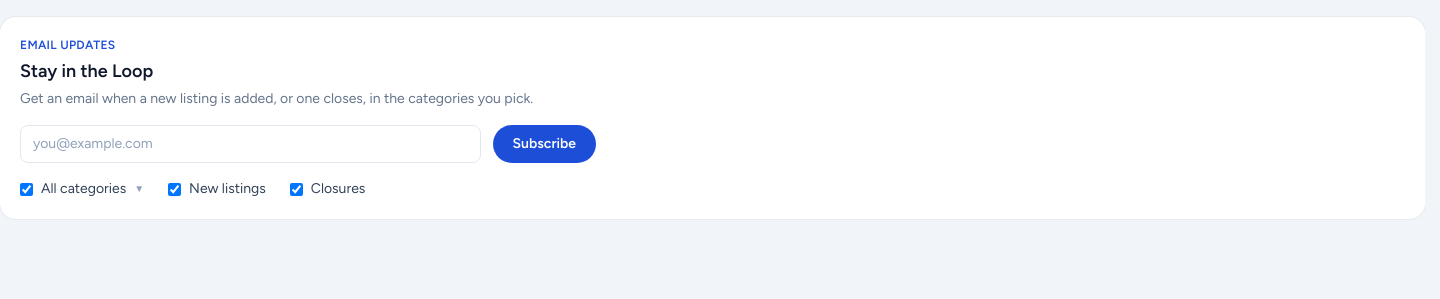
SubscribeSection › shows the server-provided error and stays on the form when the request fails
This screenshot has width=1440, height=299.
In the field named "Email address": (250, 144) [20,125,480,163], type "person@example.com"
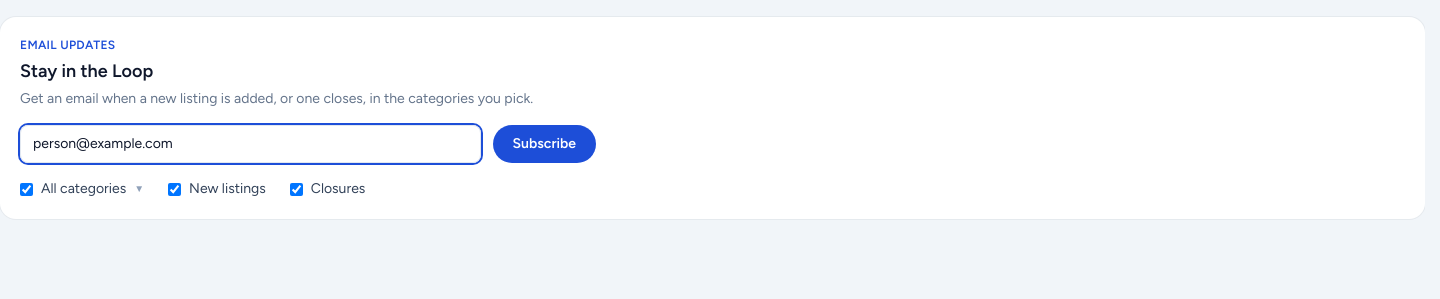
Click the button "Subscribe": (544, 144) [492,125,596,163]
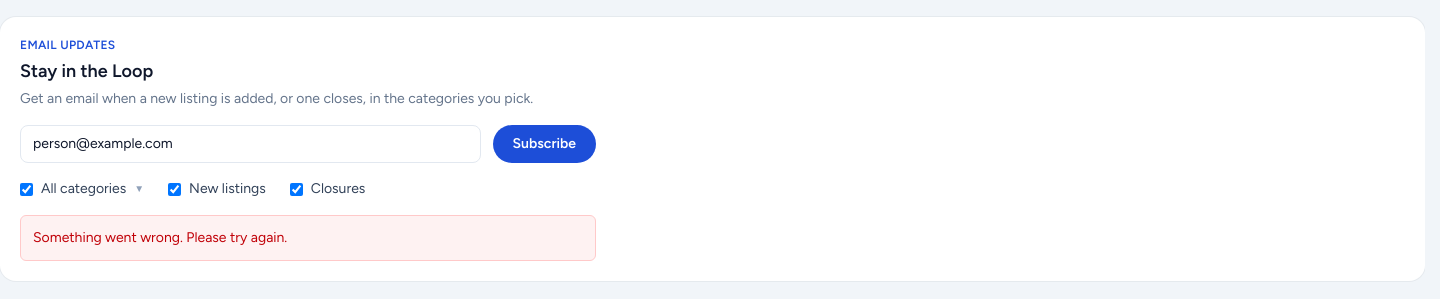
Expected: the text "Something went wrong. Please try again." is shown, [20,215,596,261]
